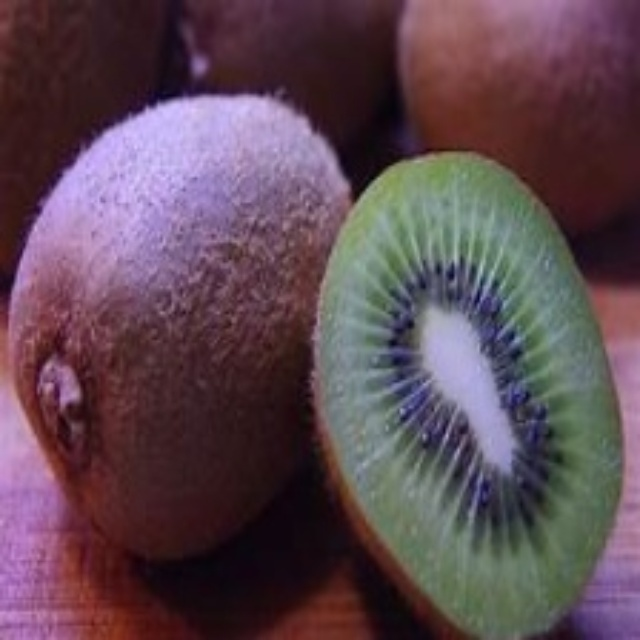kiwi: (299, 143, 618, 639), (16, 99, 342, 554), (391, 4, 639, 239)
